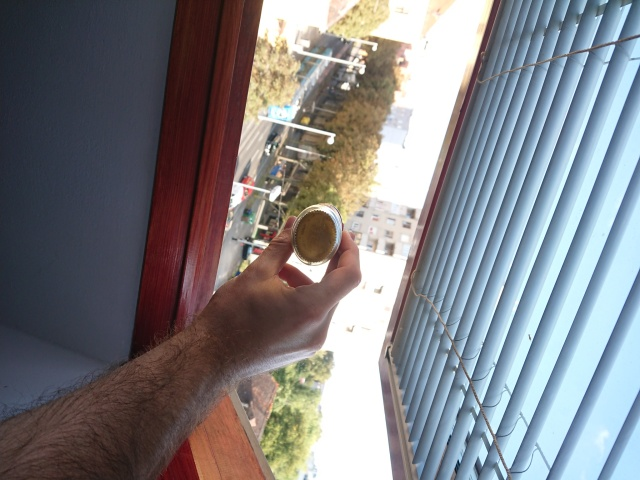Kotanyi Curry Spices Mix 70g: (288, 201, 346, 268)
